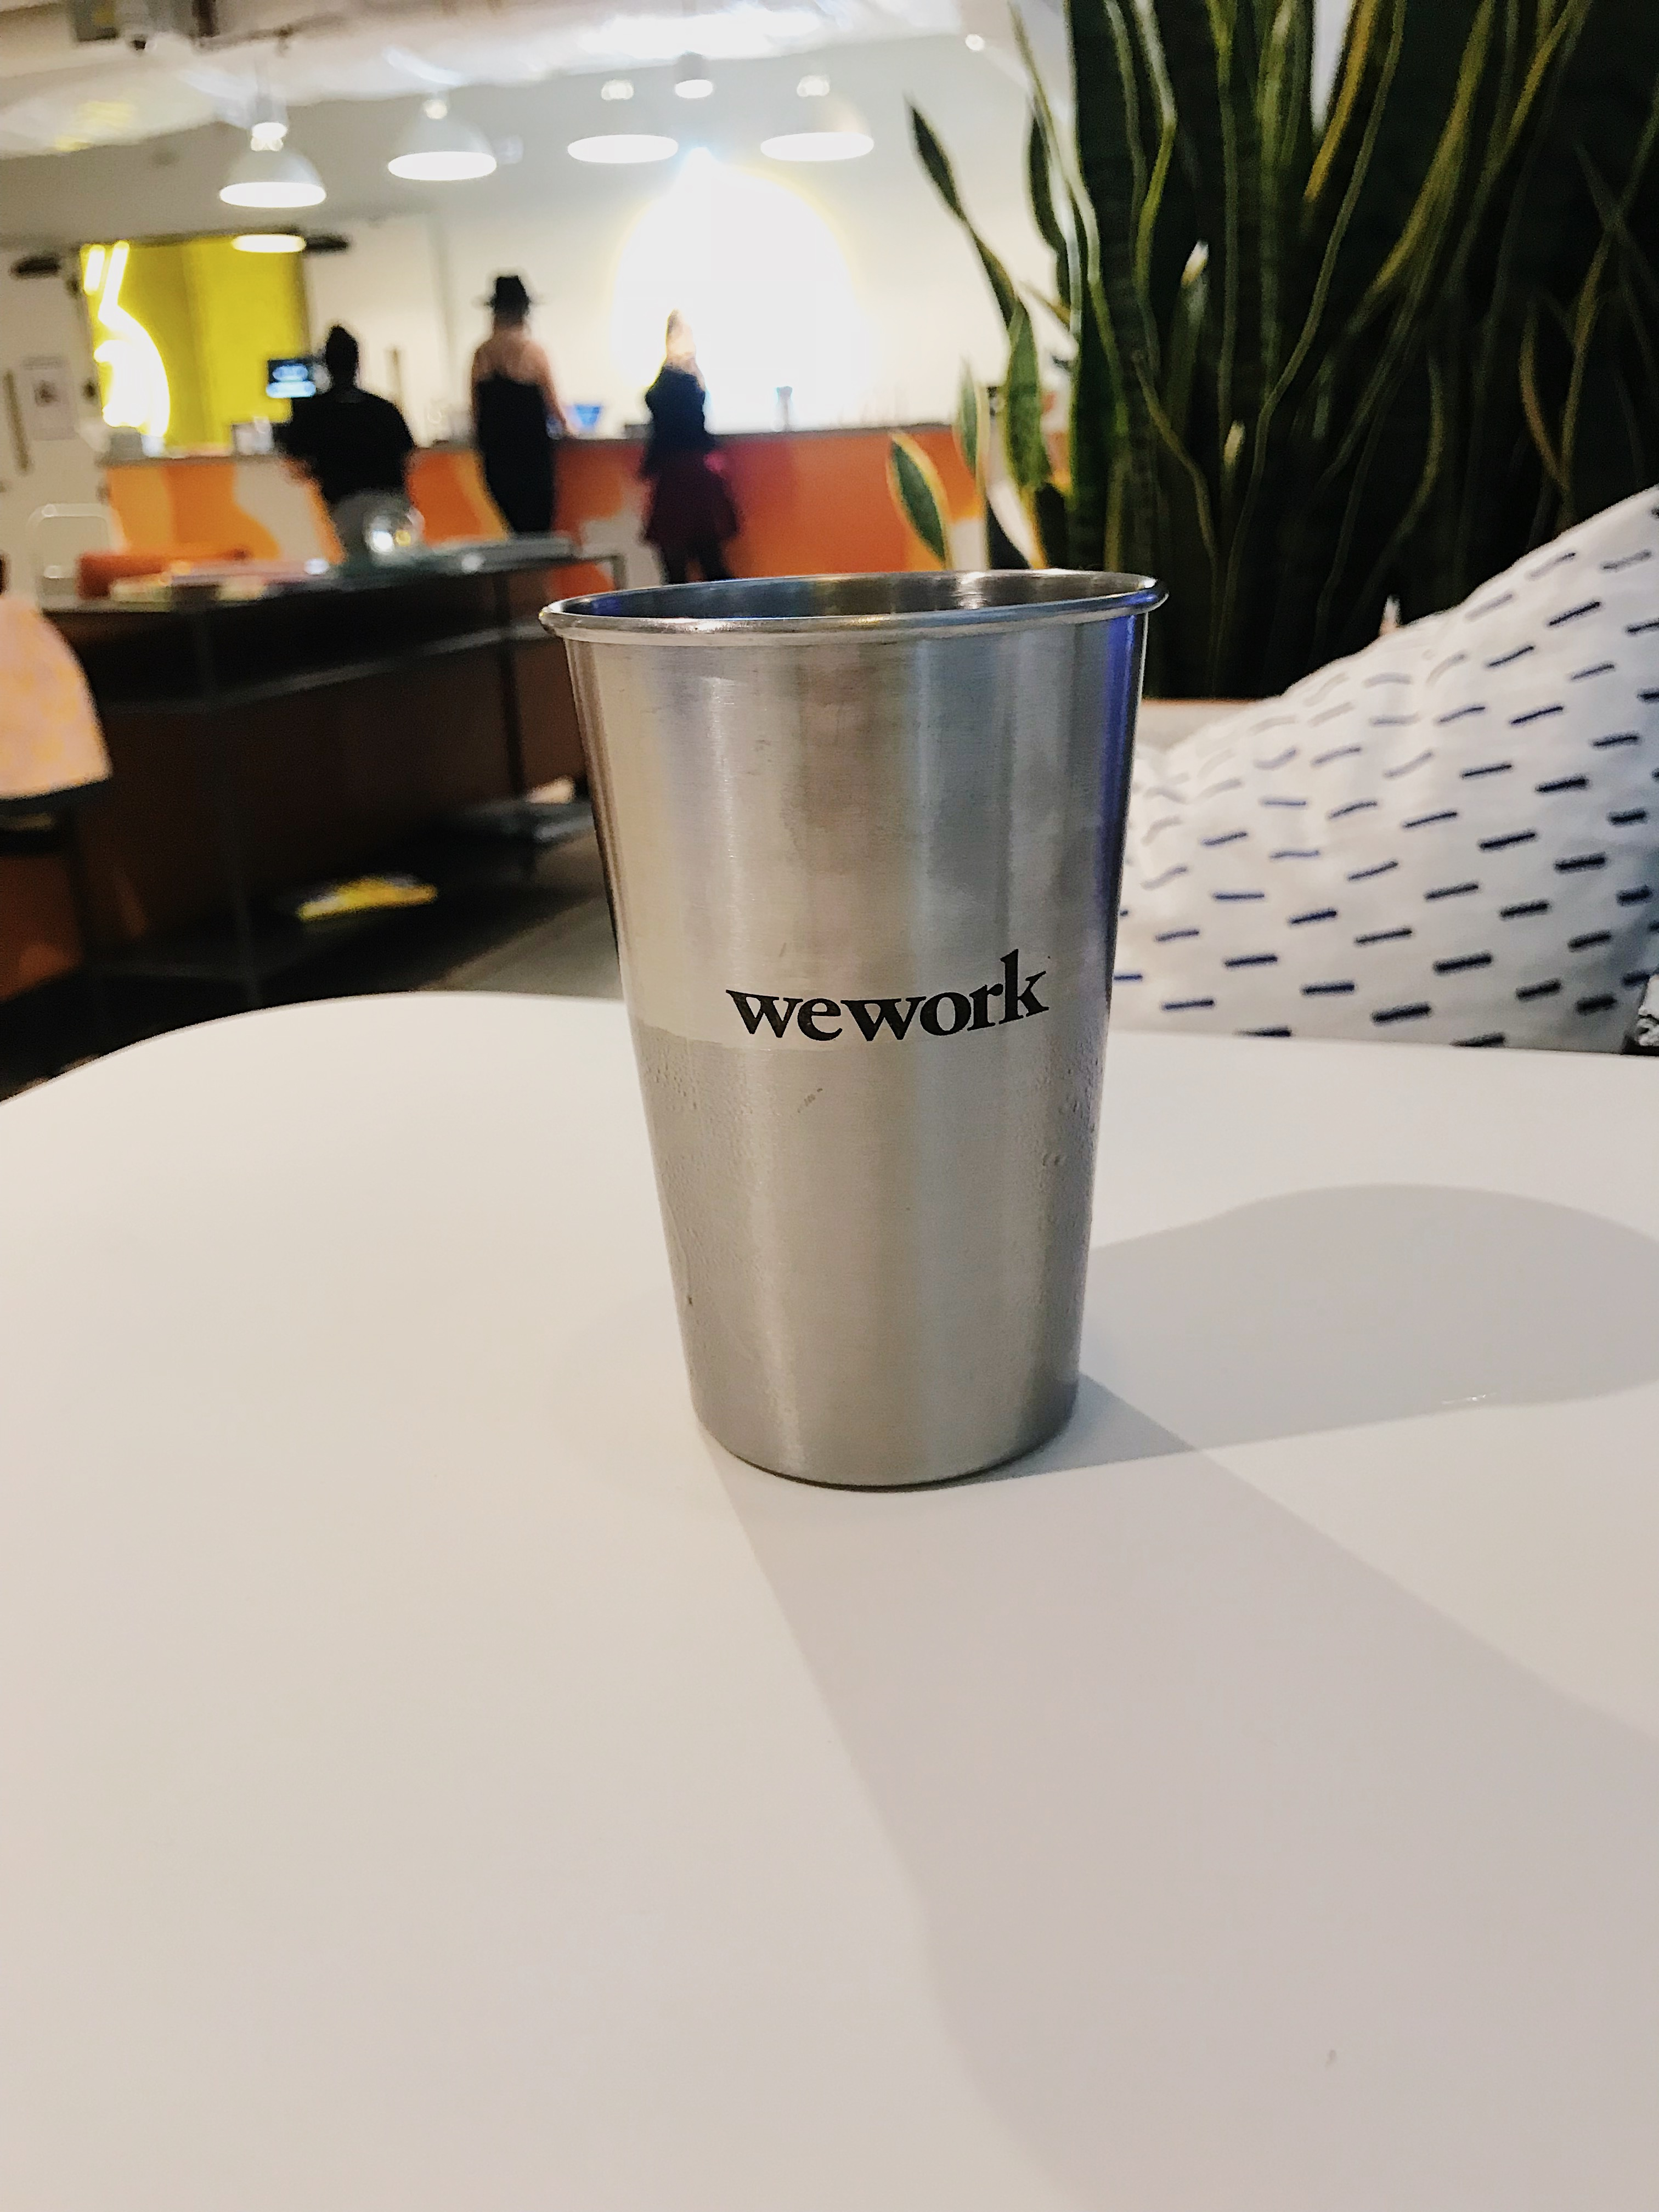wework: (721, 939, 1060, 1066)
